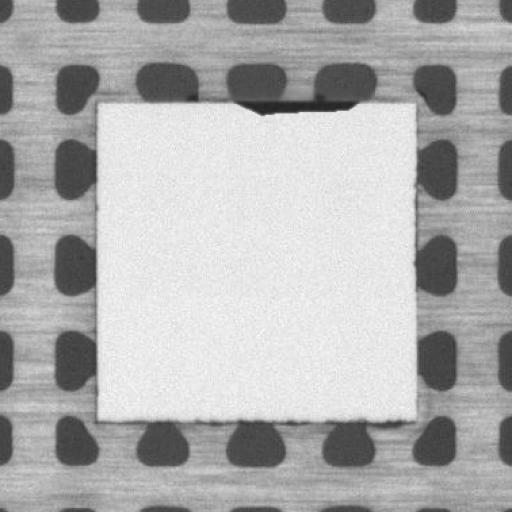DIE_BROKEN: (232, 95, 362, 116)
